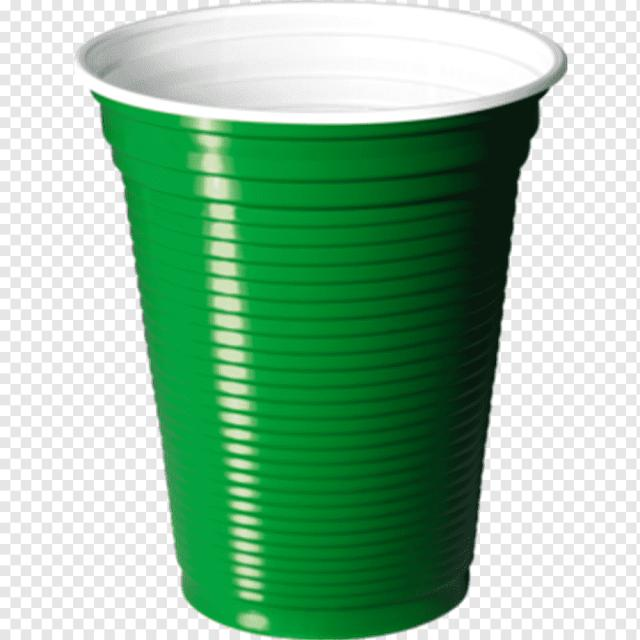Gelas: (68, 12, 577, 630)
